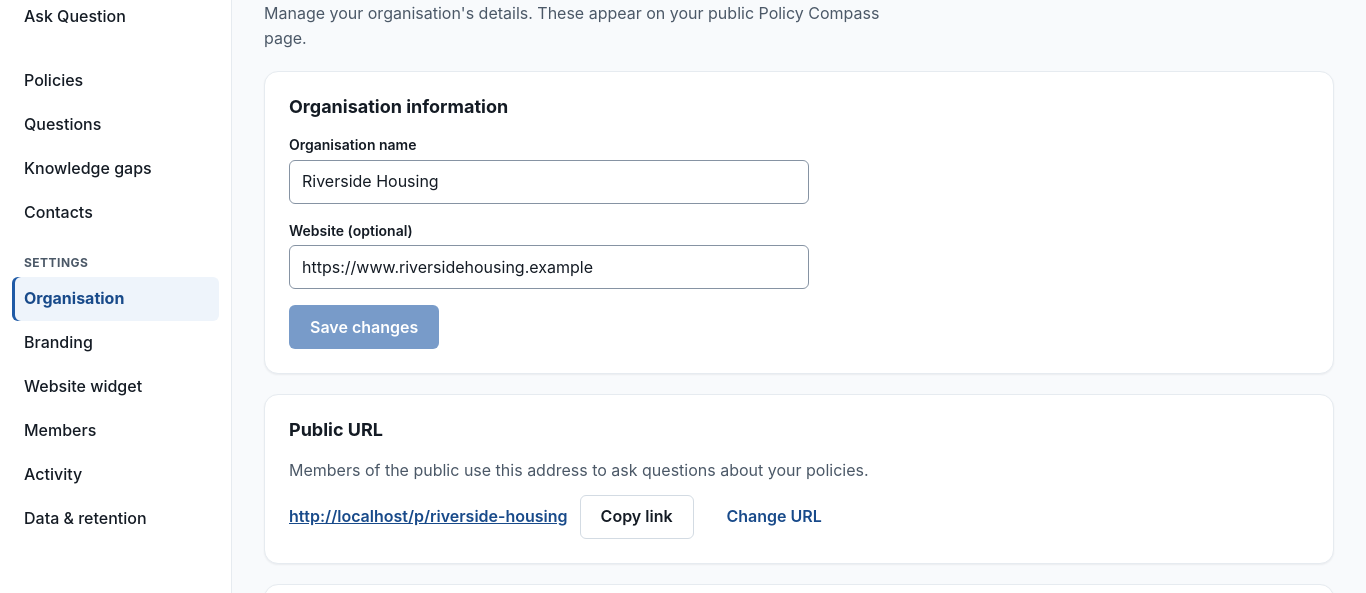
Scenario: Changing the public URL › warns that links may break, then changes the URL
Click the button "Change URL" at (774, 517), box top-left (706, 495), bottom-right (843, 539)
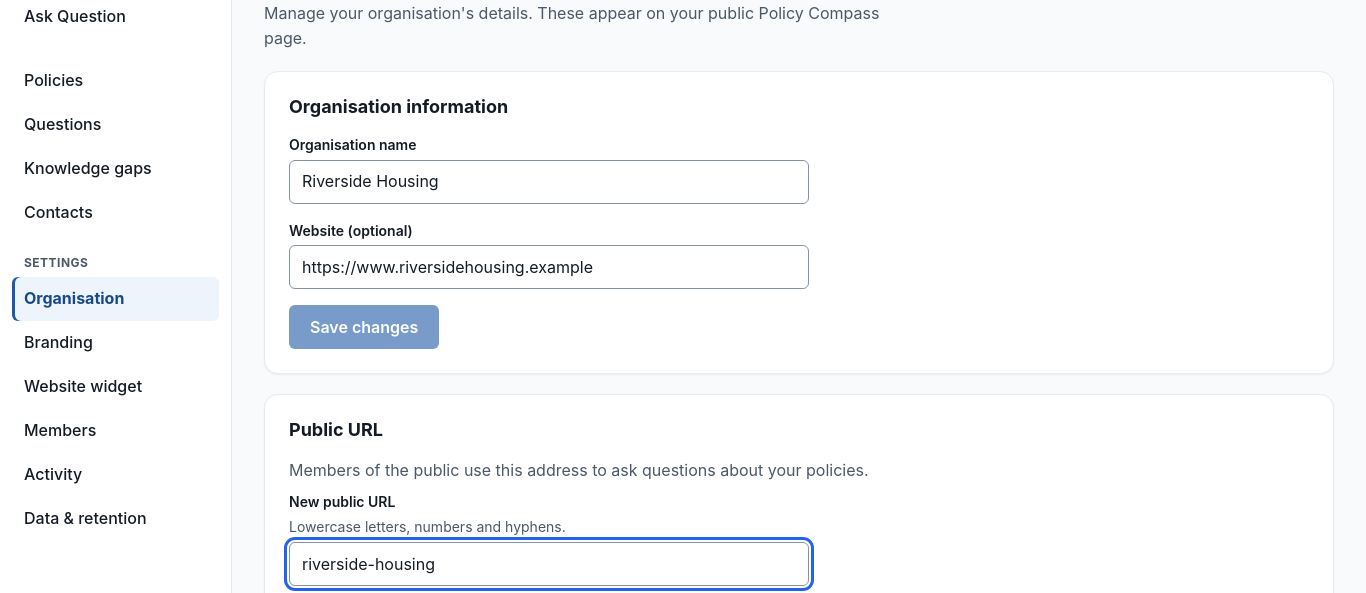
Replace the text in the field labelled "New public URL" with "riverside-homes" at (549, 564), box top-left (289, 542), bottom-right (809, 586)
(page scrolled)
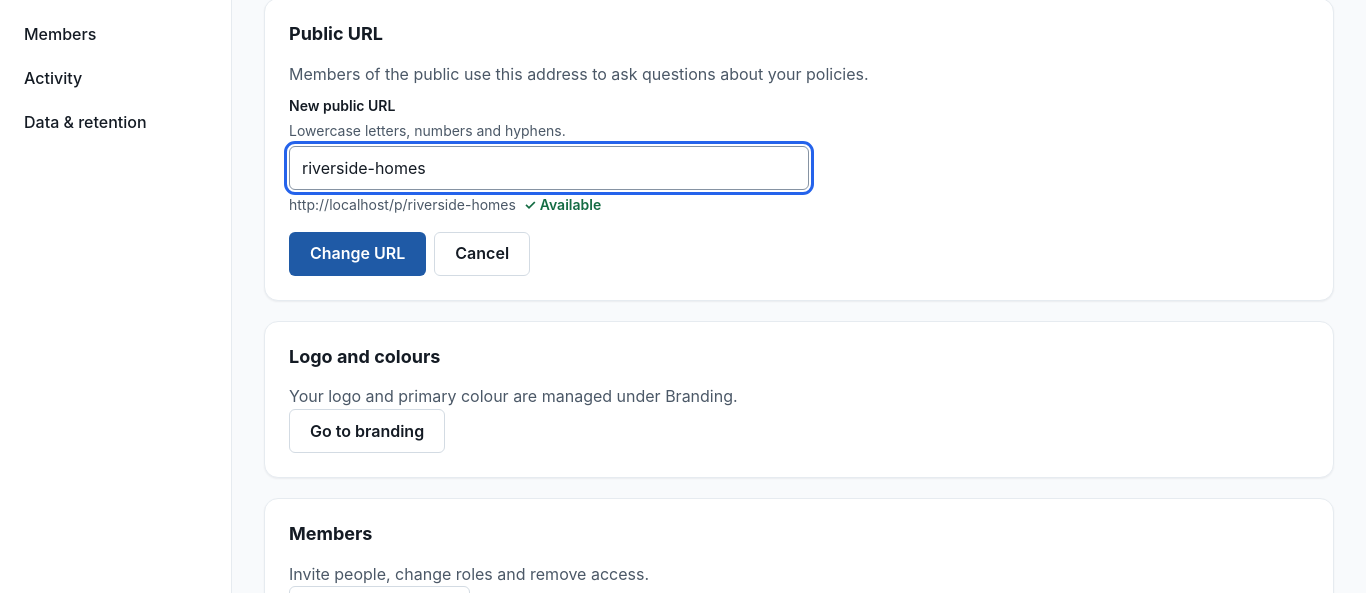
expect the text "✓ Available" is shown: met, box top-left (524, 194), bottom-right (601, 216)
Click the button "Change URL" at (358, 254), box top-left (289, 232), bottom-right (426, 276)
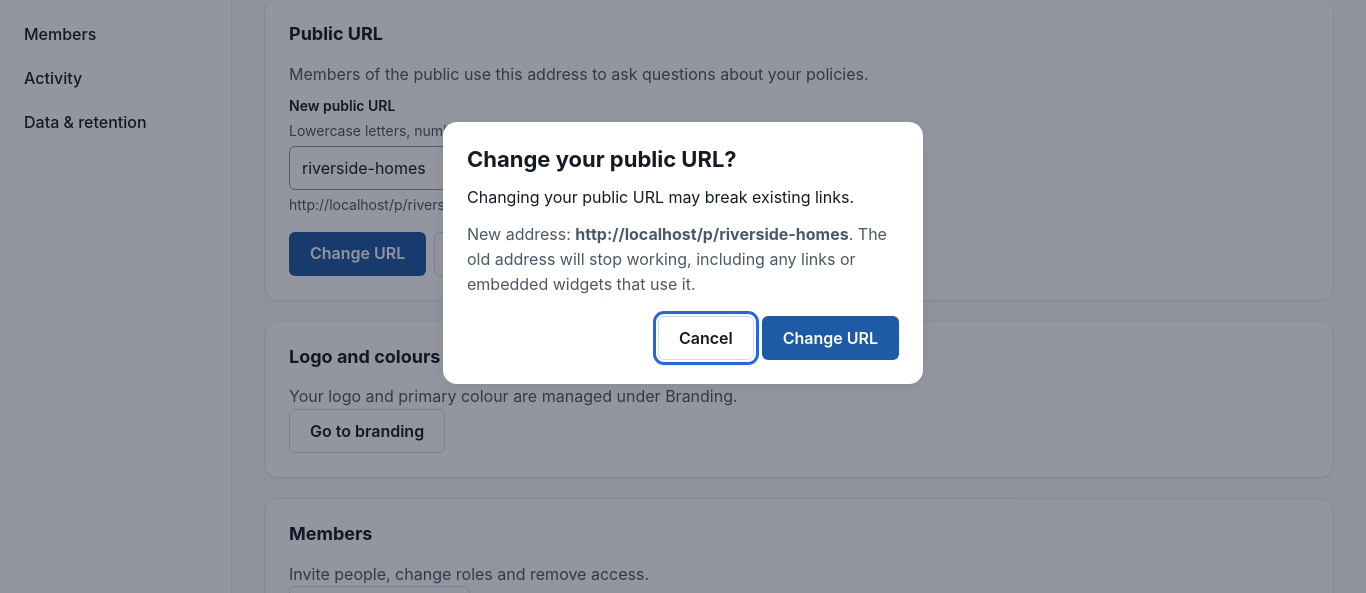
expect the dialog "Change your public URL?" shows "Changing your public URL may break existing links.": met, box top-left (467, 187), bottom-right (854, 207)
Click the button "Change URL" at (830, 338), box top-left (762, 316), bottom-right (899, 360)
(page scrolled)
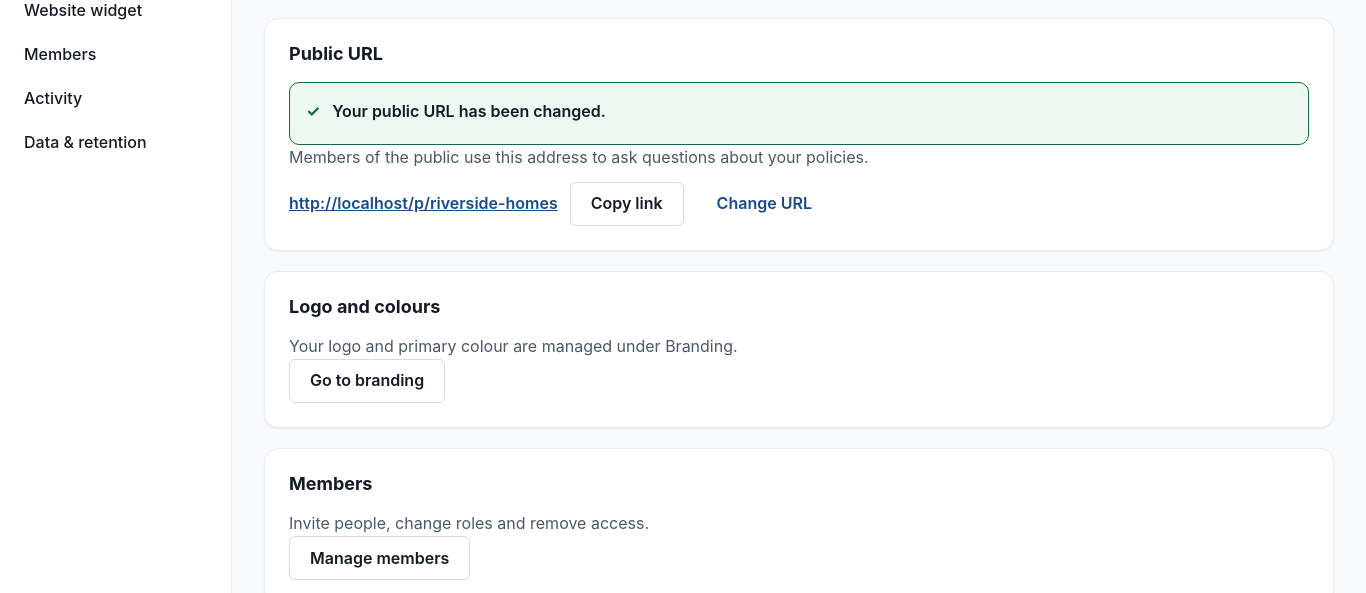
expect the text "Your public URL has been changed." is shown: met, box top-left (332, 99), bottom-right (606, 124)
